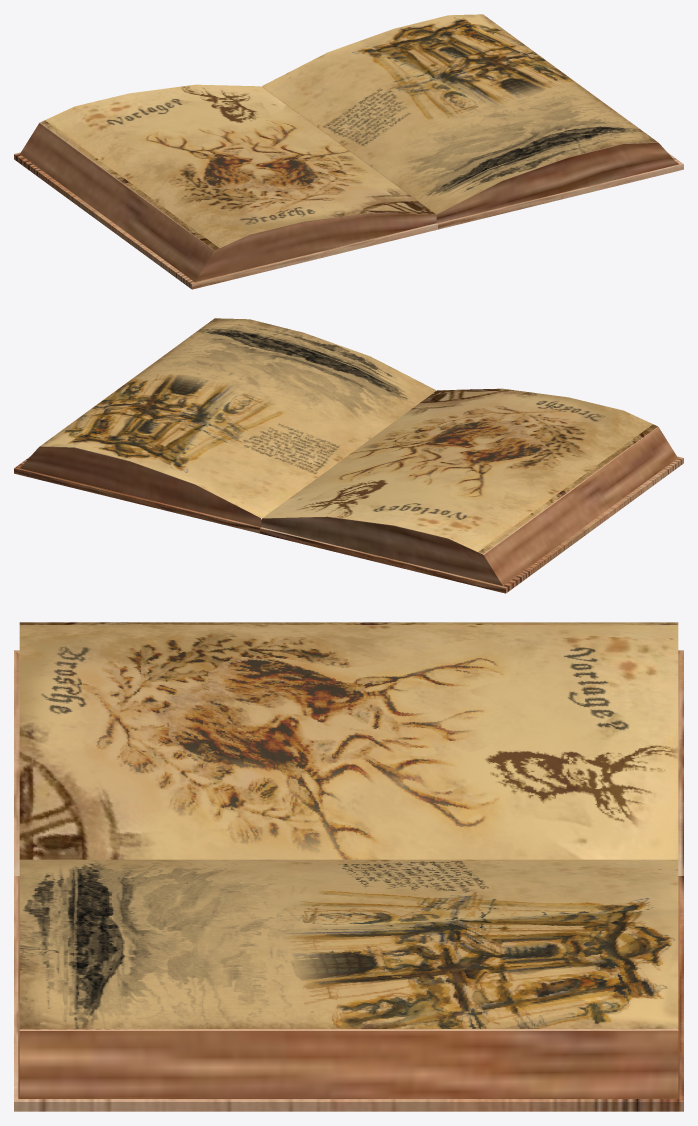
The model's file is skizzenbuch.fbx.
The picture shows the model from 3 angles, top to bottom: view 1: azimuth 30°, elevation 25°; view 2: azimuth 150°, elevation 25°; view 3: azimuth 270°, elevation 25°; orthographic projection. The views are drawn at different scales.
Parts seen in each view (by area): view 1: open_book_4:polySurface1; view 2: open_book_4:polySurface1; view 3: open_book_4:polySurface1.
Boxes of the visible parts, x1,y1,x2,y2 form: open_book_4:polySurface1: [14, 14, 683, 289]; open_book_4:polySurface1: [14, 318, 683, 593]; open_book_4:polySurface1: [14, 622, 683, 1111].
Size of the model in its own units: 24.52 by 1.88 by 15.37.
5 materials, 5 textured.
